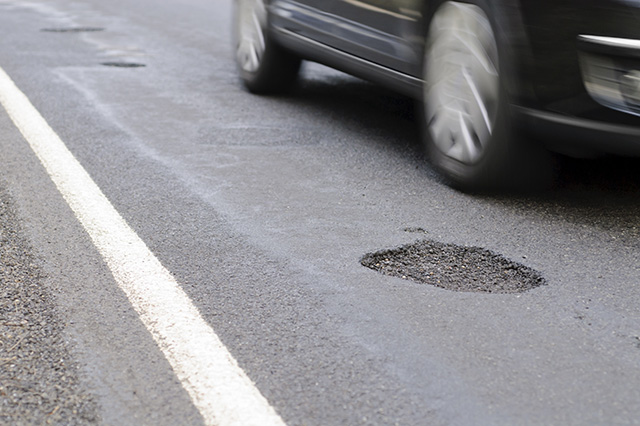Hole_in_the_road: (316, 224, 565, 322)
